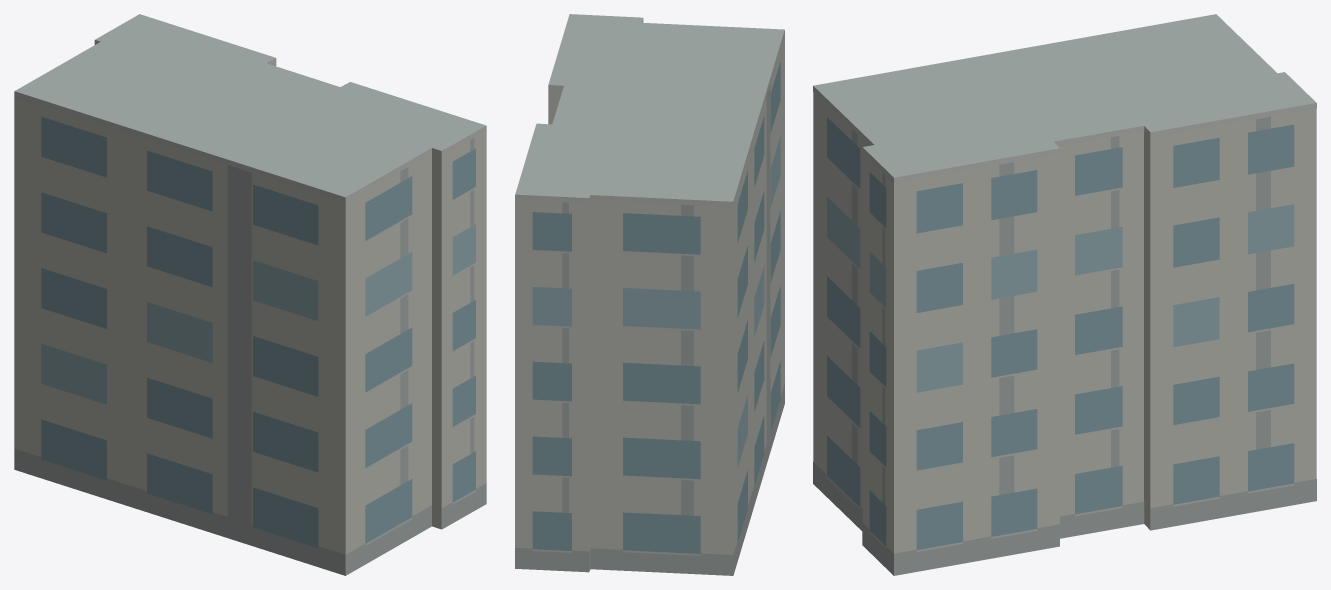
The model's file is survey-upis-32904333.glb.
The picture shows the model from 3 angles, left to right: view 1: azimuth 30°, elevation 25°; view 2: azimuth 150°, elevation 25°; view 3: azimuth 270°, elevation 25°; orthographic projection. The views are drawn at different scales.
Visible parts, largest first — view 1: survey-upis-32904333.tmp; view 2: survey-upis-32904333.tmp; view 3: survey-upis-32904333.tmp.
Part boxes in pixels (<box>): survey-upis-32904333.tmp: <box>14,14,486,575</box>; survey-upis-32904333.tmp: <box>515,14,784,575</box>; survey-upis-32904333.tmp: <box>813,14,1316,575</box>.
Size of the model in its own units: 14.73 by 16.7 by 19.15.
